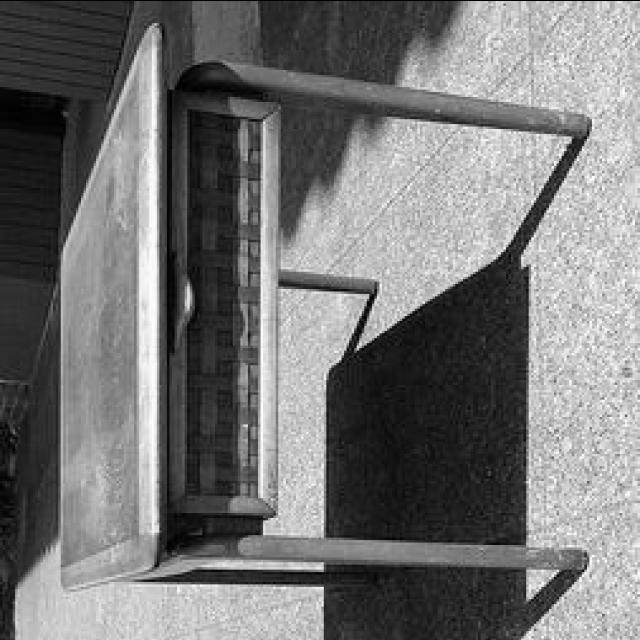table: (57, 21, 593, 592)
